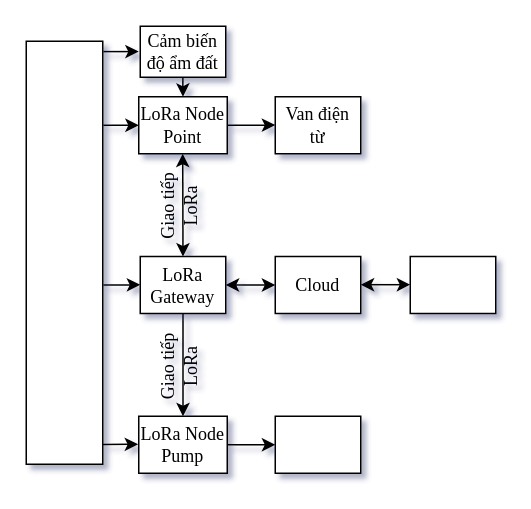
This 531x509 diagram has some shape labels left out. The box of each missing label's shape, as (x1, y1, x2, y2) in pixels:
Android App: (409, 255, 496, 314)
Bơm: (274, 415, 361, 473)
Nguồn điều khiển: (25, 40, 103, 464)
